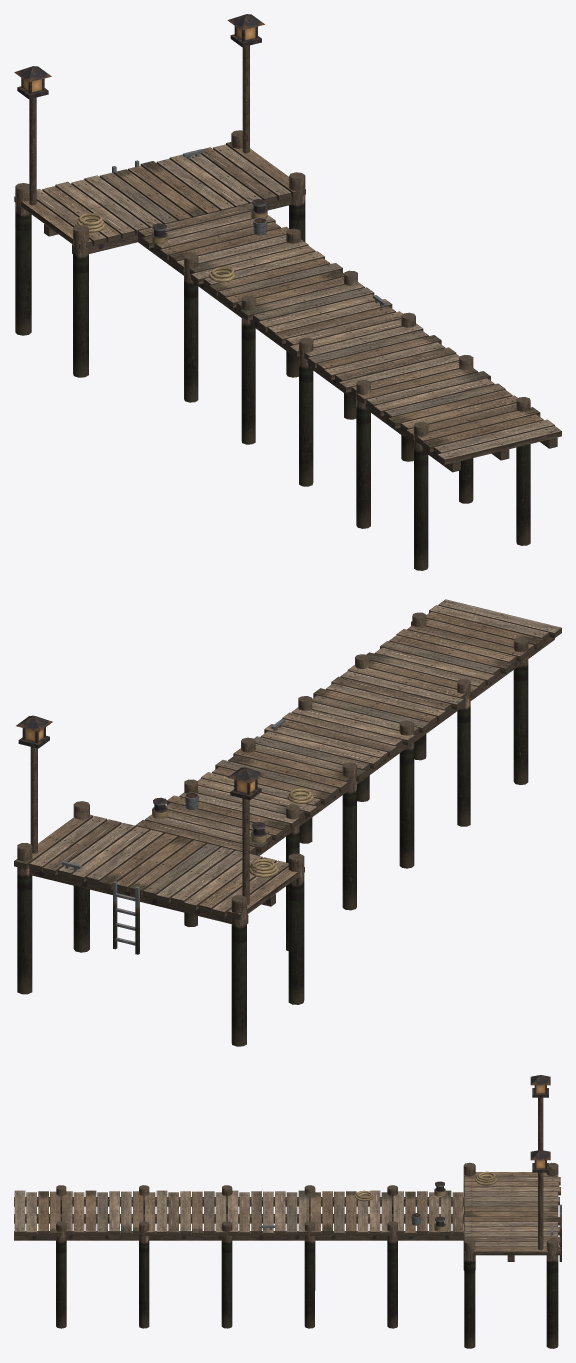
Rendered from DockHero.glb.
3 views of the same model, one above another, from view 1: azimuth 30°, elevation 25°; view 2: azimuth 150°, elevation 25°; view 3: azimuth 270°, elevation 25° (orthographic). The views are drawn at different scales.
Parts seen in each view (by area): view 1: DockHero; view 2: DockHero; view 3: DockHero.
Part boxes in pixels (bbox=[...]): DockHero: bbox=[14, 14, 561, 570]; DockHero: bbox=[14, 599, 561, 1046]; DockHero: bbox=[14, 1075, 561, 1348].
Bounding box in the file's own units: 16.7 × 18.2 × 46.3.
1 material, 1 textured.
